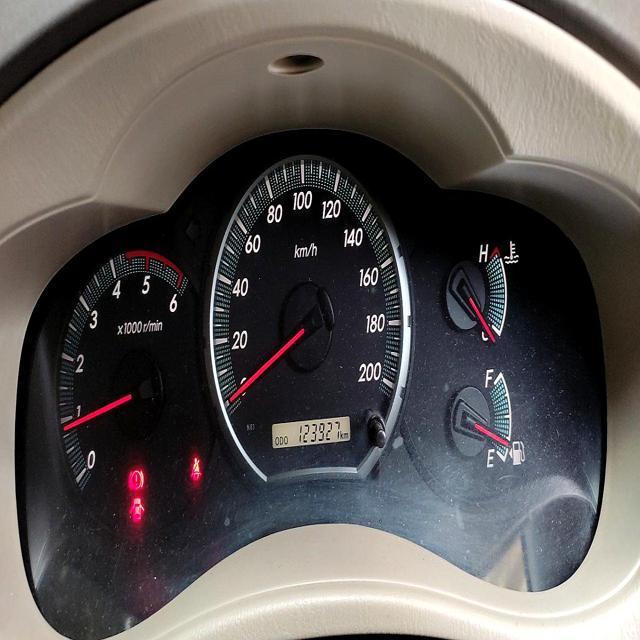odometer: (296, 417, 349, 448)
